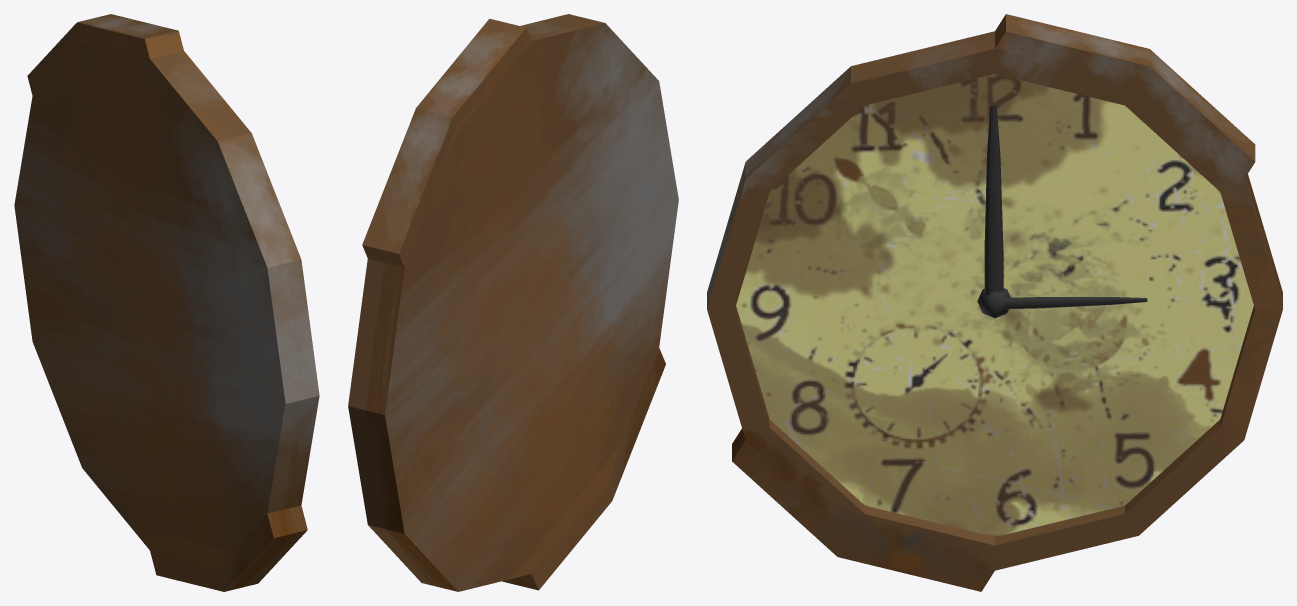
Rendered from Clock.fbx.
3 views of the same model, side by side, from view 1: azimuth 30°, elevation 25°; view 2: azimuth 150°, elevation 25°; view 3: azimuth 270°, elevation 25° (orthographic). The views are drawn at different scales.
Visible parts, largest first — view 1: Cylinder; view 2: Cylinder; view 3: Cylinder, Cylinder.001, Cylinder.002.
Boxes of the visible parts, x1,y1,x2,y2 form: Cylinder: (14, 14, 319, 591); Cylinder: (348, 14, 678, 591); Cylinder: (707, 14, 1282, 591); Cylinder.001: (984, 105, 1003, 295); Cylinder.002: (1005, 297, 1147, 309).
Bounding box in the file's own units: 22.8 × 338 × 315.
Materials: 2 (1 with a texture image).
